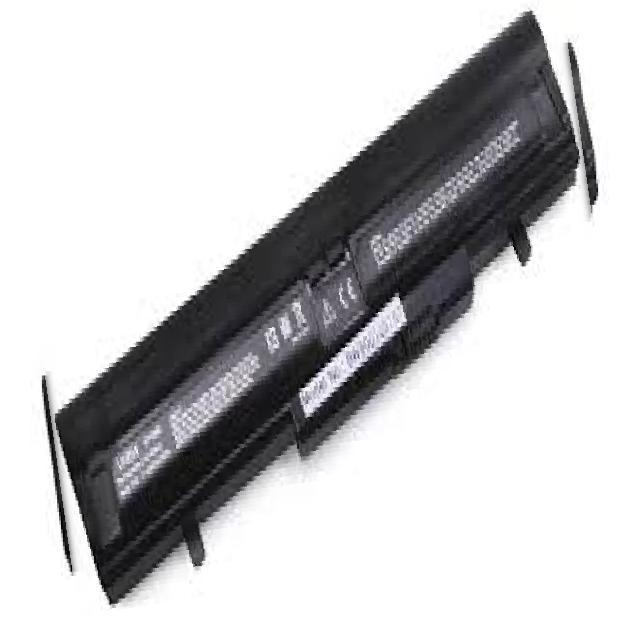Battery: (52, 2, 579, 637)
